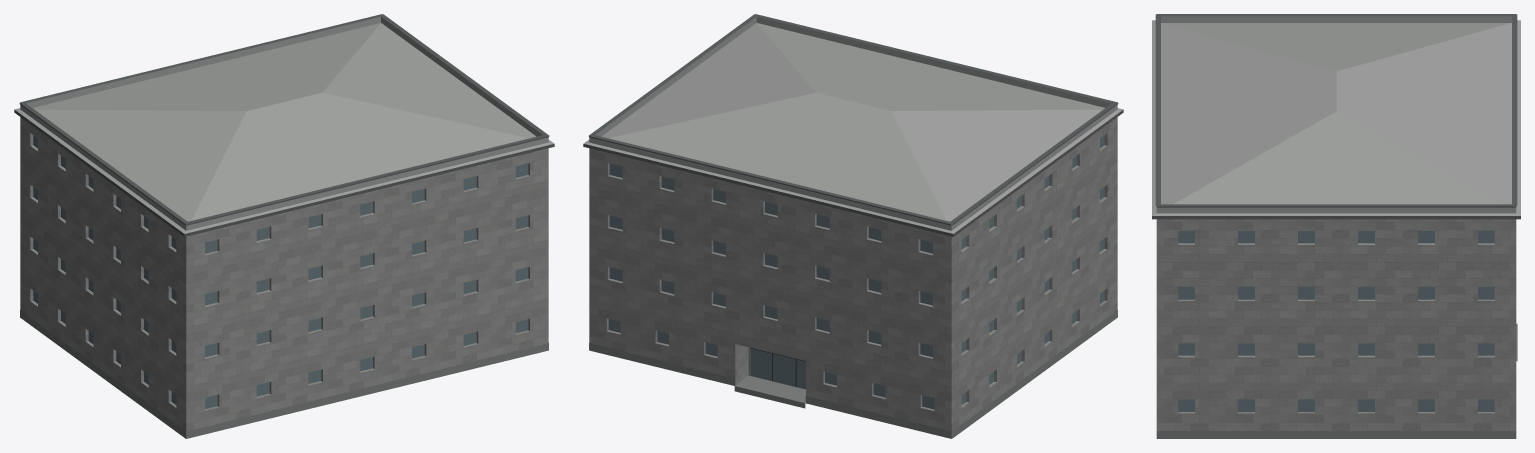
3 views of the same model, side by side, from view 1: azimuth 30°, elevation 25°; view 2: azimuth 150°, elevation 25°; view 3: azimuth 270°, elevation 25° (orthographic). The views are drawn at different scales.
Visible parts, largest first — view 1: church__wall, church__roofAccent, church__parapet, church__trim, church__glass, church__base; view 2: church__wall, church__roofAccent, church__glass, church__parapet, church__trim, church__base; view 3: church__wall, church__roofAccent, church__trim, church__glass, church__parapet, church__base.
Boxes of the visible parts, bbox=[...] form: church__wall: bbox=[20, 117, 548, 438]; church__roofAccent: bbox=[14, 23, 554, 233]; church__parapet: bbox=[20, 16, 548, 230]; church__trim: bbox=[14, 14, 554, 236]; church__glass: bbox=[33, 135, 528, 408]; church__base: bbox=[20, 310, 548, 438]; church__wall: bbox=[589, 117, 1117, 438]; church__roofAccent: bbox=[583, 23, 1122, 233]; church__glass: bbox=[608, 135, 1104, 409]; church__parapet: bbox=[589, 16, 1117, 230]; church__trim: bbox=[583, 14, 1123, 236]; church__base: bbox=[589, 310, 1117, 438]; church__wall: bbox=[1156, 219, 1516, 430]; church__roofAccent: bbox=[1152, 20, 1520, 215]; church__trim: bbox=[1152, 14, 1520, 219]; church__glass: bbox=[1178, 231, 1494, 411]; church__parapet: bbox=[1156, 16, 1516, 213]; church__base: bbox=[1156, 323, 1517, 438].
Bounding box in the file's own units: 31.4 × 19.2 × 25.
9 materials, 1 textured.
